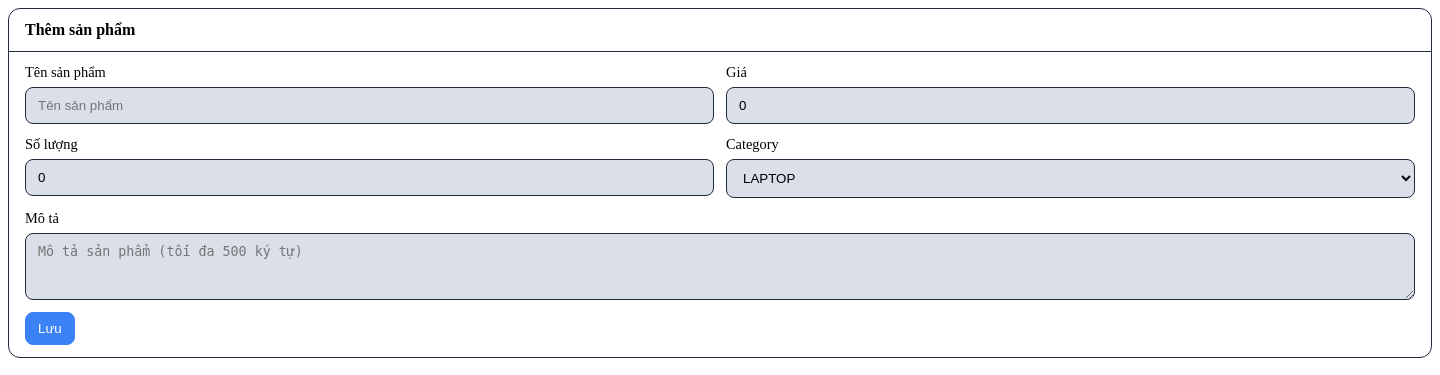
it: Product Mock Testing (Câu 4.2.1) › TC-MOCK-02: Tao san pham that bai (Failure Flow)
Type "Laptop cũ" into the field with test id "name-input" at coordinates (370, 106), box [25,87,714,124]
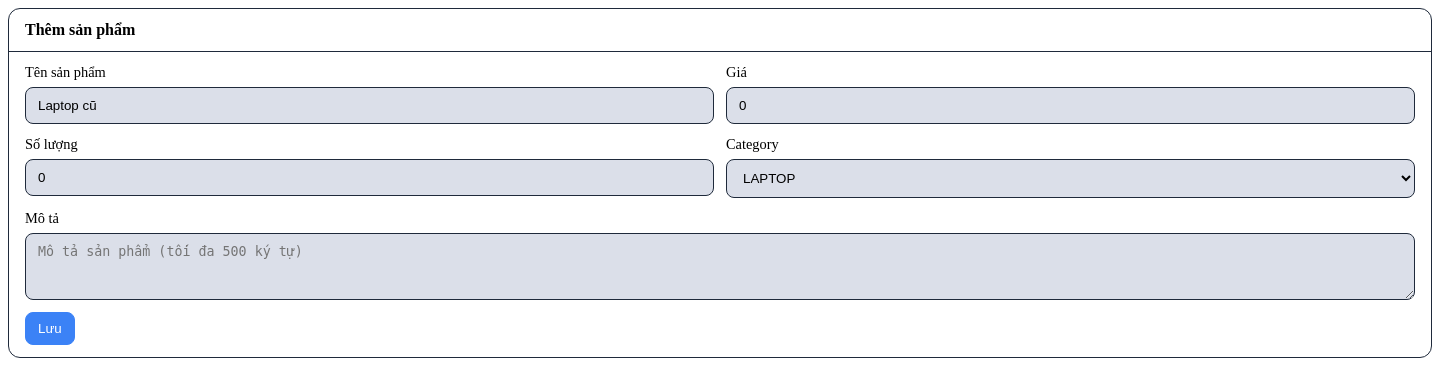
Click the button with test id "submit-product-btn" at coordinates (50, 328), box [25,312,75,345]
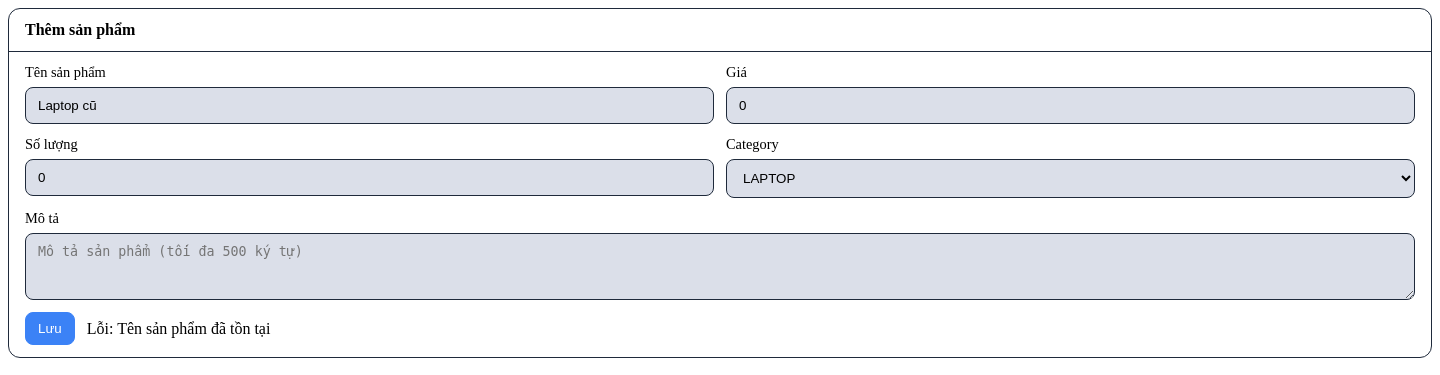
Expected: the text "Lỗi: Tên sản phẩm đã tồn tại" is shown, [87,320,270,338]
